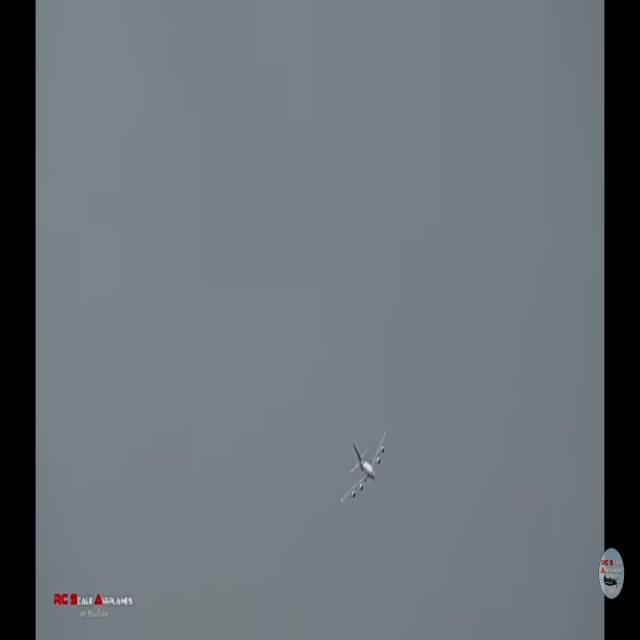iha: (341, 460, 388, 473)
